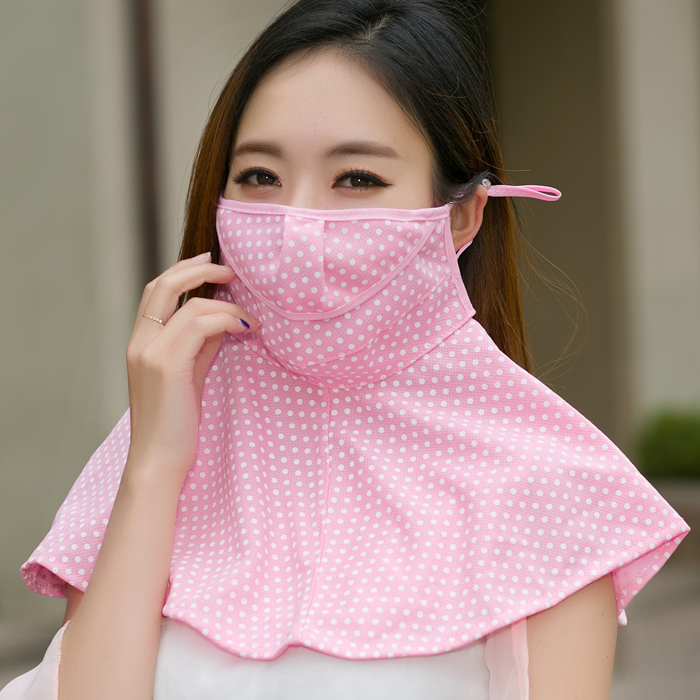face_mask: (219, 45, 442, 366)
